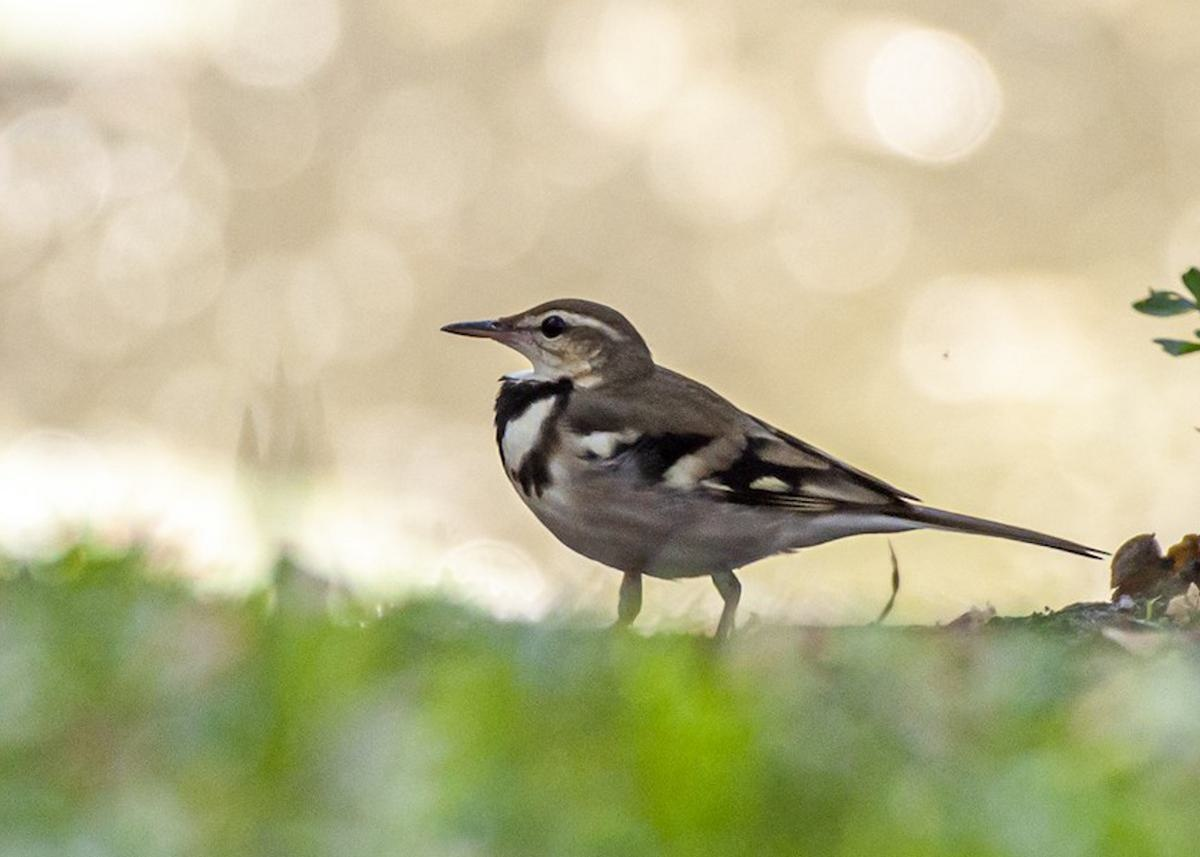wagtail: (427, 263, 1054, 644)
